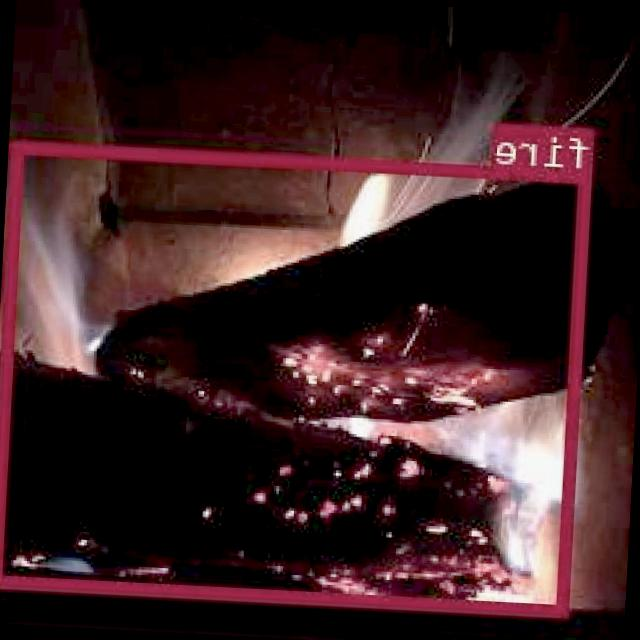fire: (0, 139, 593, 614)
